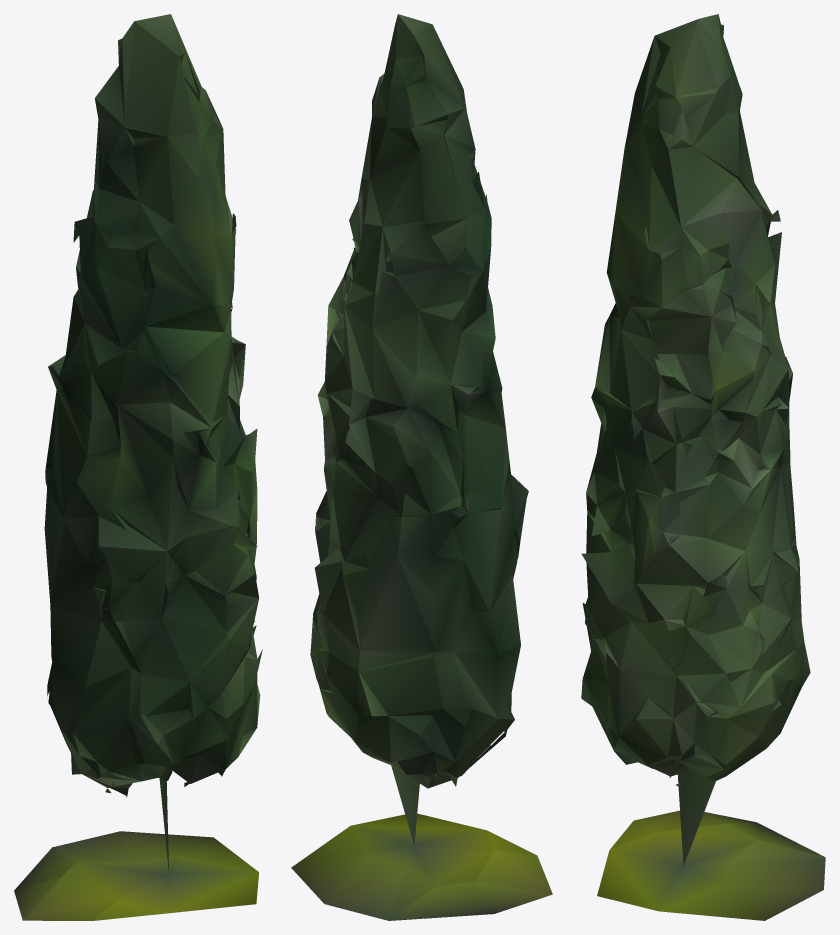
Rendered from lib_tp_topiary.vc2.glb.
3 views of the same model, side by side, from view 1: azimuth 30°, elevation 25°; view 2: azimuth 150°, elevation 25°; view 3: azimuth 270°, elevation 25° (orthographic). The views are drawn at different scales.
Parts seen in each view (by area): view 1: lib_tp_topiary; view 2: lib_tp_topiary; view 3: lib_tp_topiary.
Part boxes in pixels (<box>): lib_tp_topiary: <box>14,14,262,920</box>; lib_tp_topiary: <box>291,14,552,920</box>; lib_tp_topiary: <box>581,14,825,920</box>.
Bounding box in the file's own units: 0.539 × 1.91 × 0.4897.
